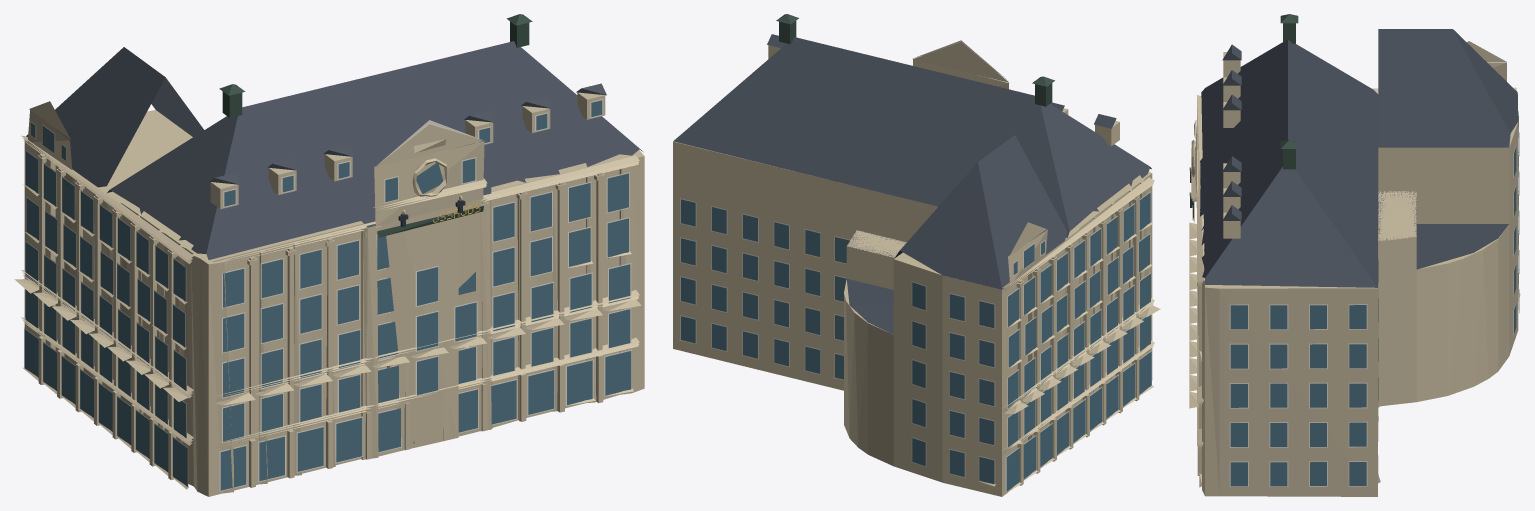
File: madame-tussauds.lod1.glb
3 renders of one model, left to right at view 1: azimuth 30°, elevation 25°; view 2: azimuth 150°, elevation 25°; view 3: azimuth 270°, elevation 25°, orthographic. The views are drawn at different scales.
Parts seen in each view (by area): view 1: madame-tussauds; view 2: madame-tussauds; view 3: madame-tussauds.
Part boxes in pixels (x1,y1,x2,y2): madame-tussauds: (14,14,644,496); madame-tussauds: (673,14,1160,496); madame-tussauds: (1189,14,1520,496).
Size of the model in its own units: 45.4 by 33.7 by 31.4.
